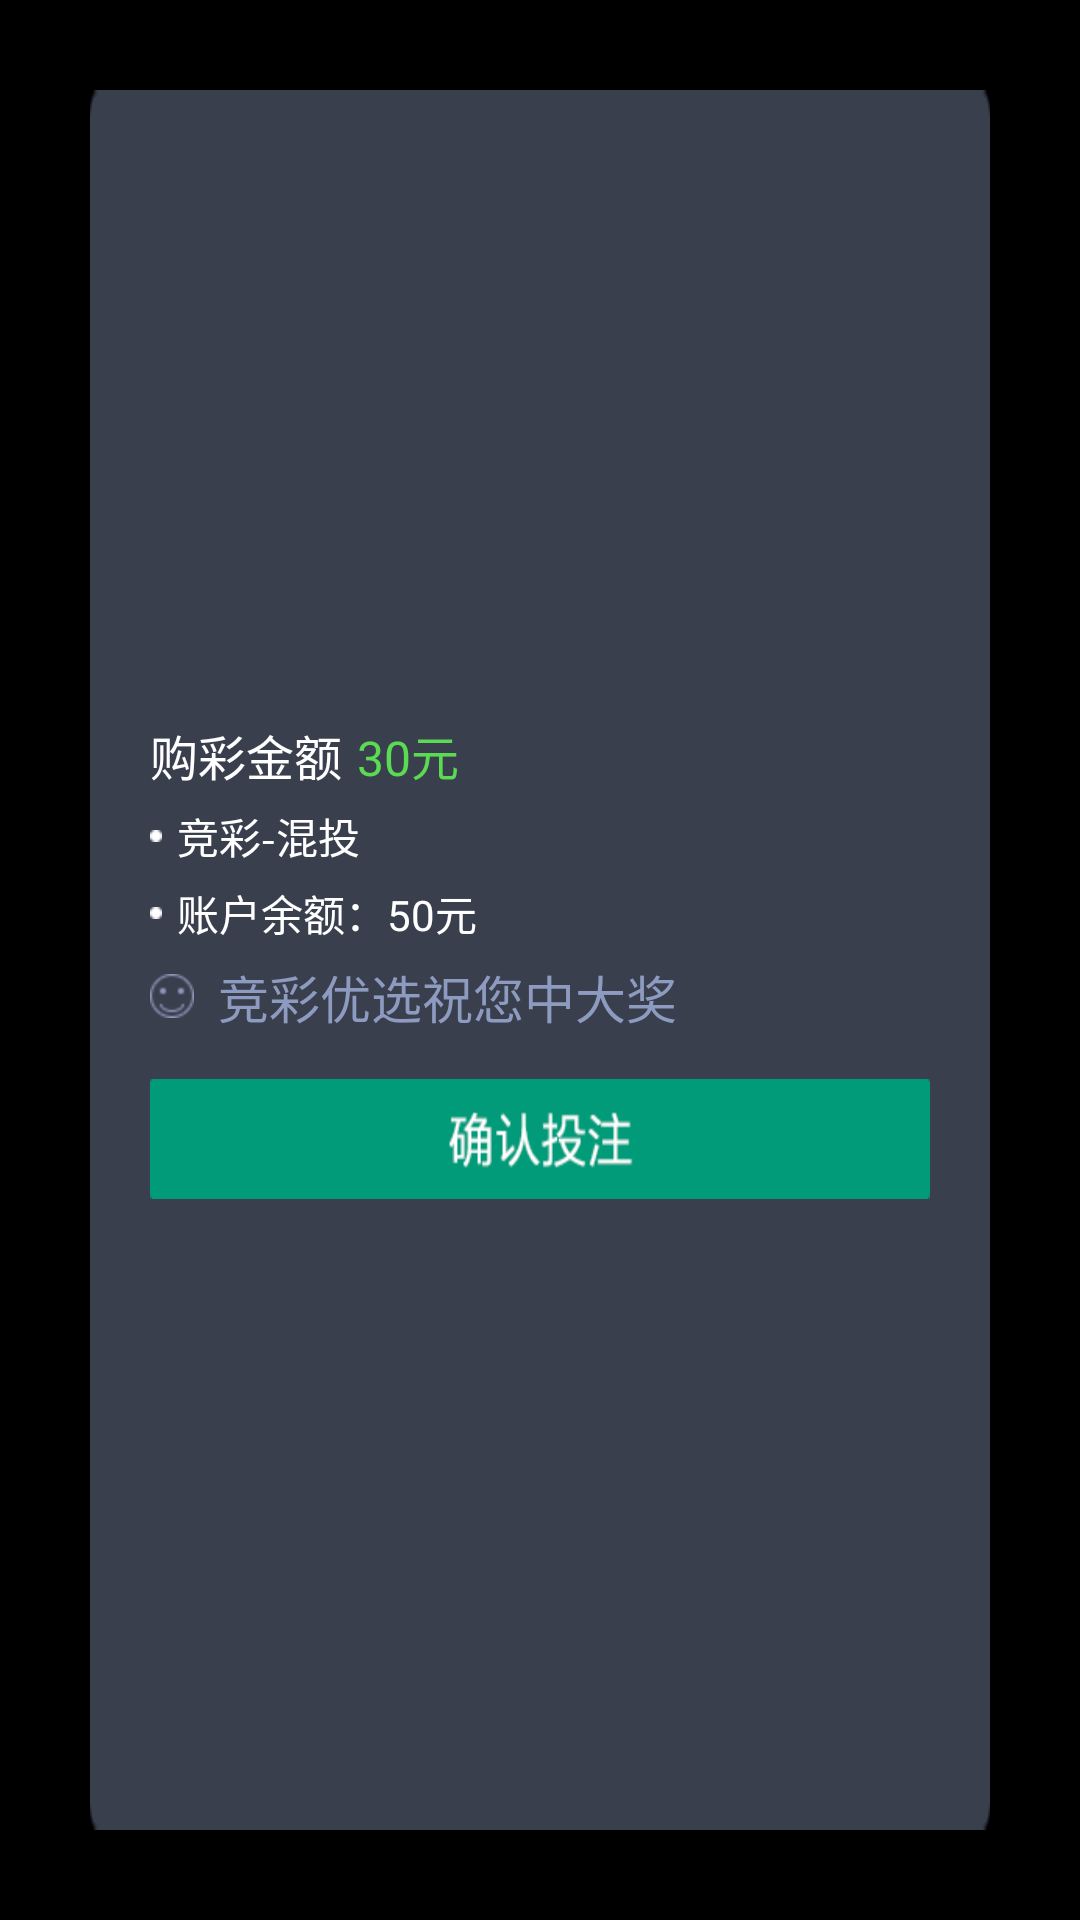

Screen size 1080px×1920px. Icon name, then its box in pixels as (x1, y1, x2, y2):
smile: (150, 974, 194, 1018)
